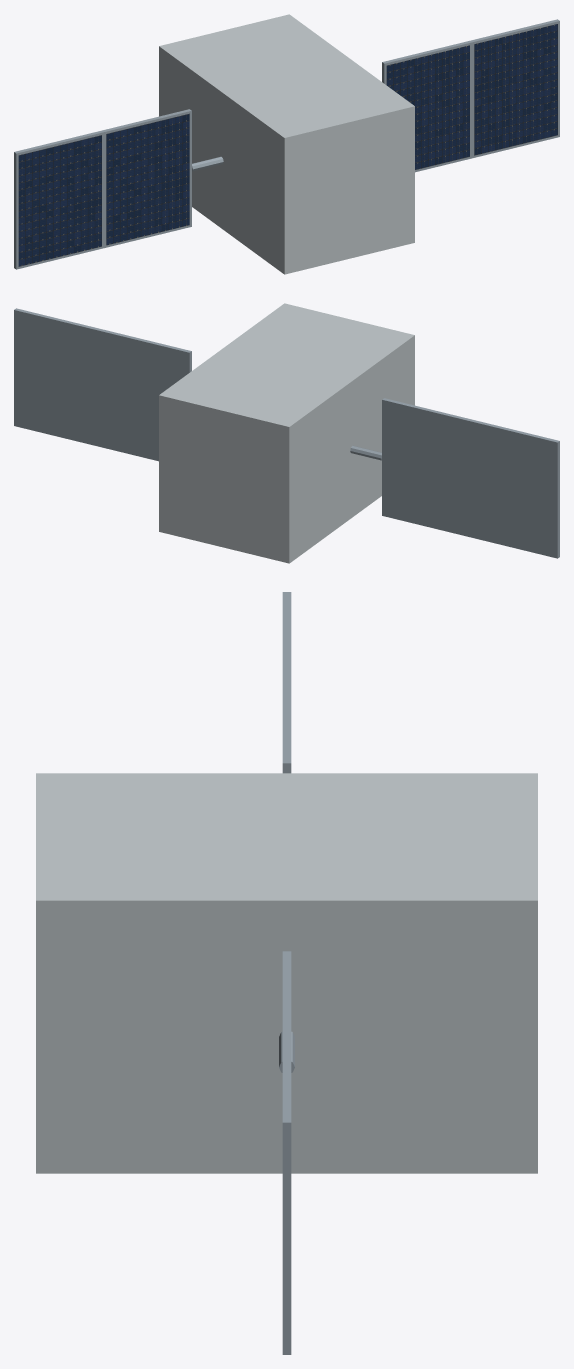
Rendered from ref-stex-25489.glb.
3 views of the same model, one above another, from view 1: azimuth 30°, elevation 25°; view 2: azimuth 150°, elevation 25°; view 3: azimuth 270°, elevation 25° (orthographic). The views are drawn at different scales.
Parts seen in each view (by area): view 1: Spacecraft body, Photovoltaic laminates (×4), Array frame (×4); view 2: Spacecraft body, Array frame (×4); view 3: Spacecraft body, Array frame (×2).
Part boxes in pixels (x1,y1,x2,y2): Spacecraft body: (159, 14, 414, 274); Photovoltaic laminates (×4): (18, 24, 557, 266); Array frame (×4): (14, 19, 559, 269); Spacecraft body: (159, 303, 414, 563); Array frame (×4): (14, 308, 559, 558); Spacecraft body: (36, 773, 537, 1173); Array frame (×2): (282, 677, 291, 1354).
Bounding box in the file's own units: 5 × 1.2 × 2.
Materials: 3 (1 with a texture image).
